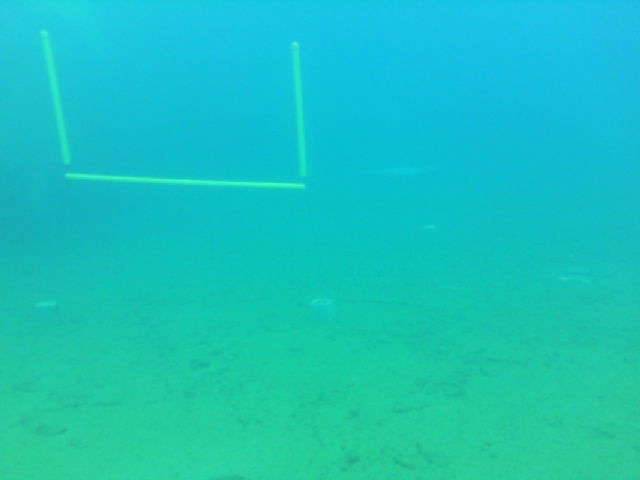channel: (40, 28, 319, 185)
